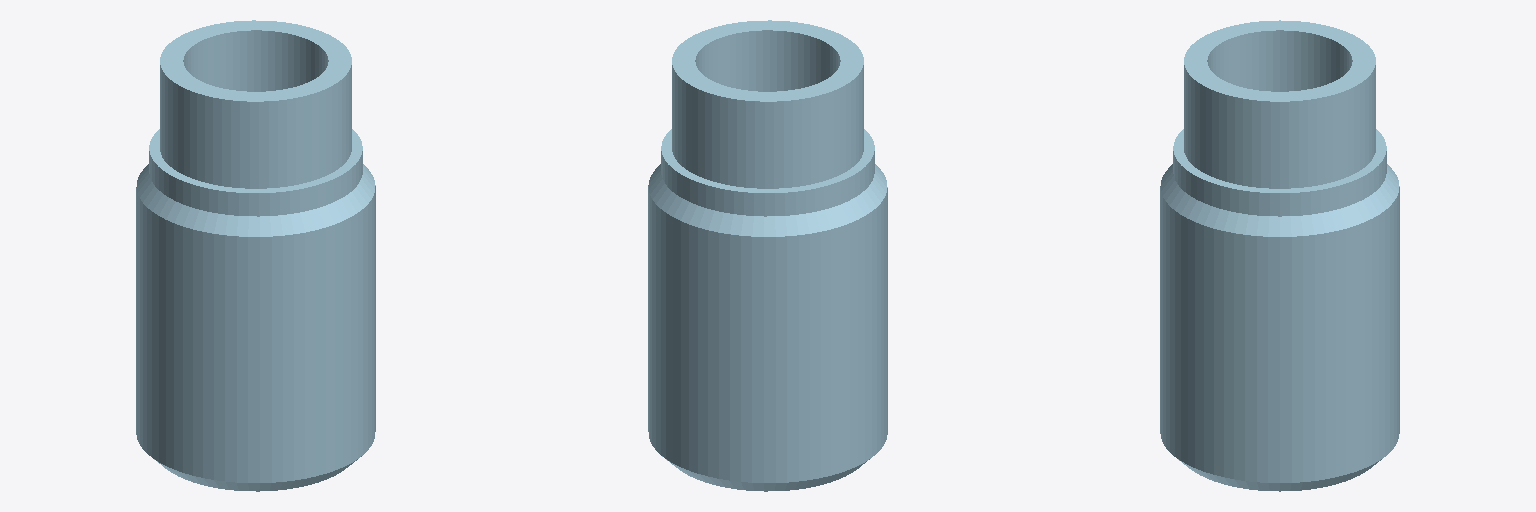
The robot description file, URDF, robot "duran_gl45_100ml_clear__body":
<?xml version="1.0"?>
<robot name="duran_gl45_100ml_clear__body">
  <link name="body">
    <inertial>
      <origin xyz="-1.82587e-18 2.43449e-18 0.0508604" rpy="0 0 0" />
      <mass value="0.129314" />
      <inertia ixx="0.000141556" ixy="0" ixz="0" iyy="0.000141556" iyz="0" izz="6.75881e-05" />
    </inertial>
    <visual name="duran_gl45_100ml_clear__body">
      <origin xyz="0 0 0" rpy="0 0 0" />
      <geometry>
        <mesh filename="../meshes/duran_gl45_100ml_clear__body.obj" />
      </geometry>
      <material name="mat_duran_gl45_100ml_clear__body">
        <color rgba="0.71057 0.84809 0.91141 0.350" />
      </material>
    </visual>
    <collision>
      <origin xyz="0 0 0.002" rpy="0 0 0" />
      <geometry>
        <cylinder radius="0.0268" length="0.004" />
      </geometry>
    </collision>
    <collision>
      <origin xyz="0.0269 0 0.0348" rpy="0 0 0" />
      <geometry>
        <box size="0.0022 0.0118752 0.0656" />
      </geometry>
    </collision>
    <collision>
      <origin xyz="0.0248524 0.0102942 0.0348" rpy="0 0 0.392699" />
      <geometry>
        <box size="0.0022 0.0118752 0.0656" />
      </geometry>
    </collision>
    <collision>
      <origin xyz="0.0190212 0.0190212 0.0348" rpy="0 0 0.785398" />
      <geometry>
        <box size="0.0022 0.0118752 0.0656" />
      </geometry>
    </collision>
    <collision>
      <origin xyz="0.0102942 0.0248524 0.0348" rpy="0 0 1.1781" />
      <geometry>
        <box size="0.0022 0.0118752 0.0656" />
      </geometry>
    </collision>
    <collision>
      <origin xyz="1.64715e-18 0.0269 0.0348" rpy="0 0 1.5708" />
      <geometry>
        <box size="0.0022 0.0118752 0.0656" />
      </geometry>
    </collision>
    <collision>
      <origin xyz="-0.0102942 0.0248524 0.0348" rpy="0 0 1.9635" />
      <geometry>
        <box size="0.0022 0.0118752 0.0656" />
      </geometry>
    </collision>
    <collision>
      <origin xyz="-0.0190212 0.0190212 0.0348" rpy="0 0 2.35619" />
      <geometry>
        <box size="0.0022 0.0118752 0.0656" />
      </geometry>
    </collision>
    <collision>
      <origin xyz="-0.0248524 0.0102942 0.0348" rpy="0 0 2.74889" />
      <geometry>
        <box size="0.0022 0.0118752 0.0656" />
      </geometry>
    </collision>
    <collision>
      <origin xyz="-0.0269 3.2943e-18 0.0348" rpy="0 0 3.14159" />
      <geometry>
        <box size="0.0022 0.0118752 0.0656" />
      </geometry>
    </collision>
    <collision>
      <origin xyz="-0.0248524 -0.0102942 0.0348" rpy="0 0 3.53429" />
      <geometry>
        <box size="0.0022 0.0118752 0.0656" />
      </geometry>
    </collision>
    <collision>
      <origin xyz="-0.0190212 -0.0190212 0.0348" rpy="0 0 3.92699" />
      <geometry>
        <box size="0.0022 0.0118752 0.0656" />
      </geometry>
    </collision>
    <collision>
      <origin xyz="-0.0102942 -0.0248524 0.0348" rpy="0 0 4.31969" />
      <geometry>
        <box size="0.0022 0.0118752 0.0656" />
      </geometry>
    </collision>
    <collision>
      <origin xyz="-4.94145e-18 -0.0269 0.0348" rpy="0 0 4.71239" />
      <geometry>
        <box size="0.0022 0.0118752 0.0656" />
      </geometry>
    </collision>
    <collision>
      <origin xyz="0.0102942 -0.0248524 0.0348" rpy="0 0 5.10509" />
      <geometry>
        <box size="0.0022 0.0118752 0.0656" />
      </geometry>
    </collision>
    <collision>
      <origin xyz="0.0190212 -0.0190212 0.0348" rpy="0 0 5.49779" />
      <geometry>
        <box size="0.0022 0.0118752 0.0656" />
      </geometry>
    </collision>
    <collision>
      <origin xyz="0.0248524 -0.0102942 0.0348" rpy="0 0 5.89049" />
      <geometry>
        <box size="0.0022 0.0118752 0.0656" />
      </geometry>
    </collision>
    <collision>
      <origin xyz="0.0256281 0 0.0688793" rpy="0 -0.655696 0" />
      <geometry>
        <box size="0.0022 0.0118752 0.00492037" />
      </geometry>
    </collision>
    <collision>
      <origin xyz="0.0236773 0.00980745 0.0688793" rpy="0 -0.655696 0.392699" />
      <geometry>
        <box size="0.0022 0.0118752 0.00492037" />
      </geometry>
    </collision>
    <collision>
      <origin xyz="0.0181218 0.0181218 0.0688793" rpy="0 -0.655696 0.785398" />
      <geometry>
        <box size="0.0022 0.0118752 0.00492037" />
      </geometry>
    </collision>
    <collision>
      <origin xyz="0.00980745 0.0236773 0.0688793" rpy="0 -0.655696 1.1781" />
      <geometry>
        <box size="0.0022 0.0118752 0.00492037" />
      </geometry>
    </collision>
    <collision>
      <origin xyz="1.56927e-18 0.0256281 0.0688793" rpy="0 -0.655696 1.5708" />
      <geometry>
        <box size="0.0022 0.0118752 0.00492037" />
      </geometry>
    </collision>
    <collision>
      <origin xyz="-0.00980745 0.0236773 0.0688793" rpy="0 -0.655696 1.9635" />
      <geometry>
        <box size="0.0022 0.0118752 0.00492037" />
      </geometry>
    </collision>
    <collision>
      <origin xyz="-0.0181218 0.0181218 0.0688793" rpy="0 -0.655696 2.35619" />
      <geometry>
        <box size="0.0022 0.0118752 0.00492037" />
      </geometry>
    </collision>
    <collision>
      <origin xyz="-0.0236773 0.00980745 0.0688793" rpy="0 -0.655696 2.74889" />
      <geometry>
        <box size="0.0022 0.0118752 0.00492037" />
      </geometry>
    </collision>
    <collision>
      <origin xyz="-0.0256281 3.13854e-18 0.0688793" rpy="0 -0.655696 3.14159" />
      <geometry>
        <box size="0.0022 0.0118752 0.00492037" />
      </geometry>
    </collision>
    <collision>
      <origin xyz="-0.0236773 -0.00980745 0.0688793" rpy="0 -0.655696 3.53429" />
      <geometry>
        <box size="0.0022 0.0118752 0.00492037" />
      </geometry>
    </collision>
    <collision>
      <origin xyz="-0.0181218 -0.0181218 0.0688793" rpy="0 -0.655696 3.92699" />
      <geometry>
        <box size="0.0022 0.0118752 0.00492037" />
      </geometry>
    </collision>
    <collision>
      <origin xyz="-0.00980745 -0.0236773 0.0688793" rpy="0 -0.655696 4.31969" />
      <geometry>
        <box size="0.0022 0.0118752 0.00492037" />
      </geometry>
    </collision>
    <collision>
      <origin xyz="-4.70781e-18 -0.0256281 0.0688793" rpy="0 -0.655696 4.71239" />
      <geometry>
        <box size="0.0022 0.0118752 0.00492037" />
      </geometry>
    </collision>
    <collision>
      <origin xyz="0.00980745 -0.0236773 0.0688793" rpy="0 -0.655696 5.10509" />
      <geometry>
        <box size="0.0022 0.0118752 0.00492037" />
      </geometry>
    </collision>
    <collision>
      <origin xyz="0.0181218 -0.0181218 0.0688793" rpy="0 -0.655696 5.49779" />
      <geometry>
        <box size="0.0022 0.0118752 0.00492037" />
      </geometry>
    </collision>
    <collision>
      <origin xyz="0.0236773 -0.00980745 0.0688793" rpy="0 -0.655696 5.89049" />
      <geometry>
        <box size="0.0022 0.0118752 0.00492037" />
      </geometry>
    </collision>
    <collision>
      <origin xyz="0.021 0 0.0745" rpy="0 0 0" />
      <geometry>
        <box size="0.008 0.0106029 0.006" />
      </geometry>
    </collision>
    <collision>
      <origin xyz="0.0194015 0.00803635 0.0745" rpy="0 0 0.392699" />
      <geometry>
        <box size="0.008 0.0106029 0.006" />
      </geometry>
    </collision>
    <collision>
      <origin xyz="0.0148492 0.0148492 0.0745" rpy="0 0 0.785398" />
      <geometry>
        <box size="0.008 0.0106029 0.006" />
      </geometry>
    </collision>
    <collision>
      <origin xyz="0.00803635 0.0194015 0.0745" rpy="0 0 1.1781" />
      <geometry>
        <box size="0.008 0.0106029 0.006" />
      </geometry>
    </collision>
    <collision>
      <origin xyz="1.28588e-18 0.021 0.0745" rpy="0 0 1.5708" />
      <geometry>
        <box size="0.008 0.0106029 0.006" />
      </geometry>
    </collision>
    <collision>
      <origin xyz="-0.00803635 0.0194015 0.0745" rpy="0 0 1.9635" />
      <geometry>
        <box size="0.008 0.0106029 0.006" />
      </geometry>
    </collision>
    <collision>
      <origin xyz="-0.0148492 0.0148492 0.0745" rpy="0 0 2.35619" />
      <geometry>
        <box size="0.008 0.0106029 0.006" />
      </geometry>
    </collision>
    <collision>
      <origin xyz="-0.0194015 0.00803635 0.0745" rpy="0 0 2.74889" />
      <geometry>
        <box size="0.008 0.0106029 0.006" />
      </geometry>
    </collision>
    <collision>
      <origin xyz="-0.021 2.57176e-18 0.0745" rpy="0 0 3.14159" />
      <geometry>
        <box size="0.008 0.0106029 0.006" />
      </geometry>
    </collision>
    <collision>
      <origin xyz="-0.0194015 -0.00803635 0.0745" rpy="0 0 3.53429" />
      <geometry>
        <box size="0.008 0.0106029 0.006" />
      </geometry>
    </collision>
    <collision>
      <origin xyz="-0.0148492 -0.0148492 0.0745" rpy="0 0 3.92699" />
      <geometry>
        <box size="0.008 0.0106029 0.006" />
      </geometry>
    </collision>
    <collision>
      <origin xyz="-0.00803635 -0.0194015 0.0745" rpy="0 0 4.31969" />
      <geometry>
        <box size="0.008 0.0106029 0.006" />
      </geometry>
    </collision>
    <collision>
      <origin xyz="-3.85764e-18 -0.021 0.0745" rpy="0 0 4.71239" />
      <geometry>
        <box size="0.008 0.0106029 0.006" />
      </geometry>
    </collision>
    <collision>
      <origin xyz="0.00803635 -0.0194015 0.0745" rpy="0 0 5.10509" />
      <geometry>
        <box size="0.008 0.0106029 0.006" />
      </geometry>
    </collision>
    <collision>
      <origin xyz="0.0148492 -0.0148492 0.0745" rpy="0 0 5.49779" />
      <geometry>
        <box size="0.008 0.0106029 0.006" />
      </geometry>
    </collision>
    <collision>
      <origin xyz="0.0194015 -0.00803635 0.0745" rpy="0 0 5.89049" />
      <geometry>
        <box size="0.008 0.0106029 0.006" />
      </geometry>
    </collision>
    <collision>
      <origin xyz="0.01975 0 0.08875" rpy="0 0 0" />
      <geometry>
        <box size="0.0055 0.00954259 0.0225" />
      </geometry>
    </collision>
    <collision>
      <origin xyz="0.0182466 0.007558 0.08875" rpy="0 0 0.392699" />
      <geometry>
        <box size="0.0055 0.00954259 0.0225" />
      </geometry>
    </collision>
    <collision>
      <origin xyz="0.0139654 0.0139654 0.08875" rpy="0 0 0.785398" />
      <geometry>
        <box size="0.0055 0.00954259 0.0225" />
      </geometry>
    </collision>
    <collision>
      <origin xyz="0.007558 0.0182466 0.08875" rpy="0 0 1.1781" />
      <geometry>
        <box size="0.0055 0.00954259 0.0225" />
      </geometry>
    </collision>
    <collision>
      <origin xyz="1.20934e-18 0.01975 0.08875" rpy="0 0 1.5708" />
      <geometry>
        <box size="0.0055 0.00954259 0.0225" />
      </geometry>
    </collision>
    <collision>
      <origin xyz="-0.007558 0.0182466 0.08875" rpy="0 0 1.9635" />
      <geometry>
        <box size="0.0055 0.00954259 0.0225" />
      </geometry>
    </collision>
    <collision>
      <origin xyz="-0.0139654 0.0139654 0.08875" rpy="0 0 2.35619" />
      <geometry>
        <box size="0.0055 0.00954259 0.0225" />
      </geometry>
    </collision>
    <collision>
      <origin xyz="-0.0182466 0.007558 0.08875" rpy="0 0 2.74889" />
      <geometry>
        <box size="0.0055 0.00954259 0.0225" />
      </geometry>
    </collision>
    <collision>
      <origin xyz="-0.01975 2.41868e-18 0.08875" rpy="0 0 3.14159" />
      <geometry>
        <box size="0.0055 0.00954259 0.0225" />
      </geometry>
    </collision>
    <collision>
      <origin xyz="-0.0182466 -0.007558 0.08875" rpy="0 0 3.53429" />
      <geometry>
        <box size="0.0055 0.00954259 0.0225" />
      </geometry>
    </collision>
    <collision>
      <origin xyz="-0.0139654 -0.0139654 0.08875" rpy="0 0 3.92699" />
      <geometry>
        <box size="0.0055 0.00954259 0.0225" />
      </geometry>
    </collision>
    <collision>
      <origin xyz="-0.007558 -0.0182466 0.08875" rpy="0 0 4.31969" />
      <geometry>
        <box size="0.0055 0.00954259 0.0225" />
      </geometry>
    </collision>
    <collision>
      <origin xyz="-3.62802e-18 -0.01975 0.08875" rpy="0 0 4.71239" />
      <geometry>
        <box size="0.0055 0.00954259 0.0225" />
      </geometry>
    </collision>
    <collision>
      <origin xyz="0.007558 -0.0182466 0.08875" rpy="0 0 5.10509" />
      <geometry>
        <box size="0.0055 0.00954259 0.0225" />
      </geometry>
    </collision>
    <collision>
      <origin xyz="0.0139654 -0.0139654 0.08875" rpy="0 0 5.49779" />
      <geometry>
        <box size="0.0055 0.00954259 0.0225" />
      </geometry>
    </collision>
    <collision>
      <origin xyz="0.0182466 -0.007558 0.08875" rpy="0 0 5.89049" />
      <geometry>
        <box size="0.0055 0.00954259 0.0225" />
      </geometry>
    </collision>
  </link>
</robot>

--- Facts derived from the render (not from the file) ---
Views: 3 orthographic renders of the robot side by side, from view 1: azimuth 30°, elevation 25°; view 2: azimuth 150°, elevation 25°; view 3: azimuth 270°, elevation 25°.
Model duran_gl45_100ml_clear__body with 1 links and 0 joints (none), rooted at body, posed all joints at 0.
Links seen in each view (by area): view 1: body; view 2: body; view 3: body.
Boxes of the visible links, left/top/right/bottom form: body: left=136, top=20, right=375, bottom=491; body: left=648, top=20, right=887, bottom=491; body: left=1160, top=20, right=1399, bottom=491.
Bounding box of the posed robot: 0.056 × 0.056 × 0.1 m (x, y, z).
Meshes: 1 distinct files referenced, 1 mesh visuals loaded (1 OBJ).
